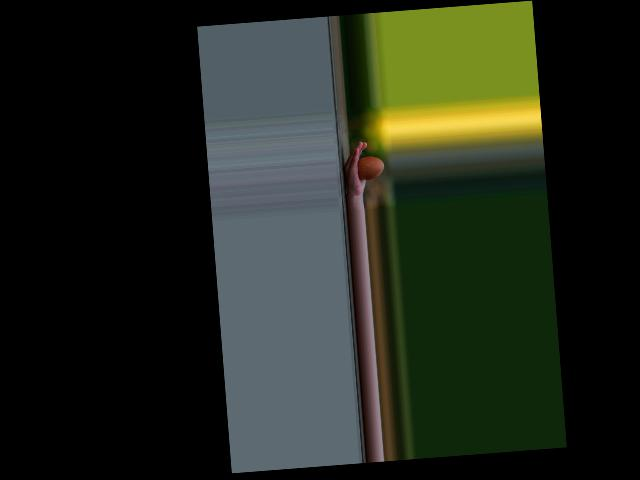egg: (356, 155, 384, 181)
